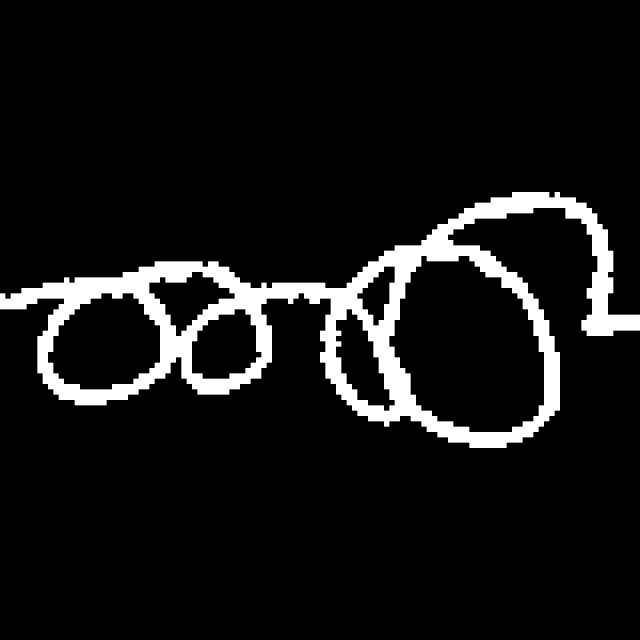inductor: (18, 180, 623, 460)
